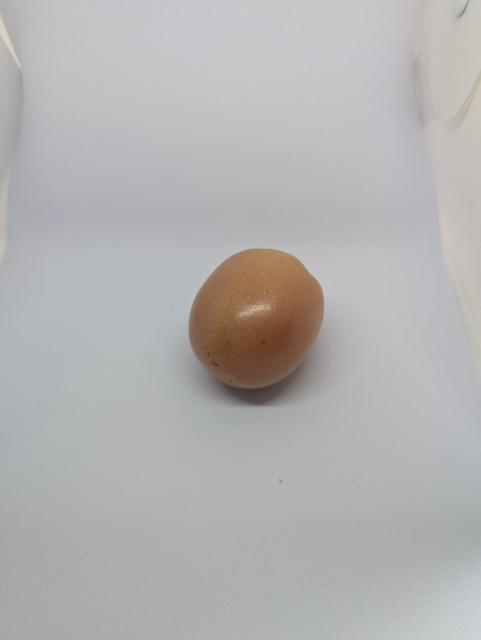turning: (175, 238, 336, 403)
